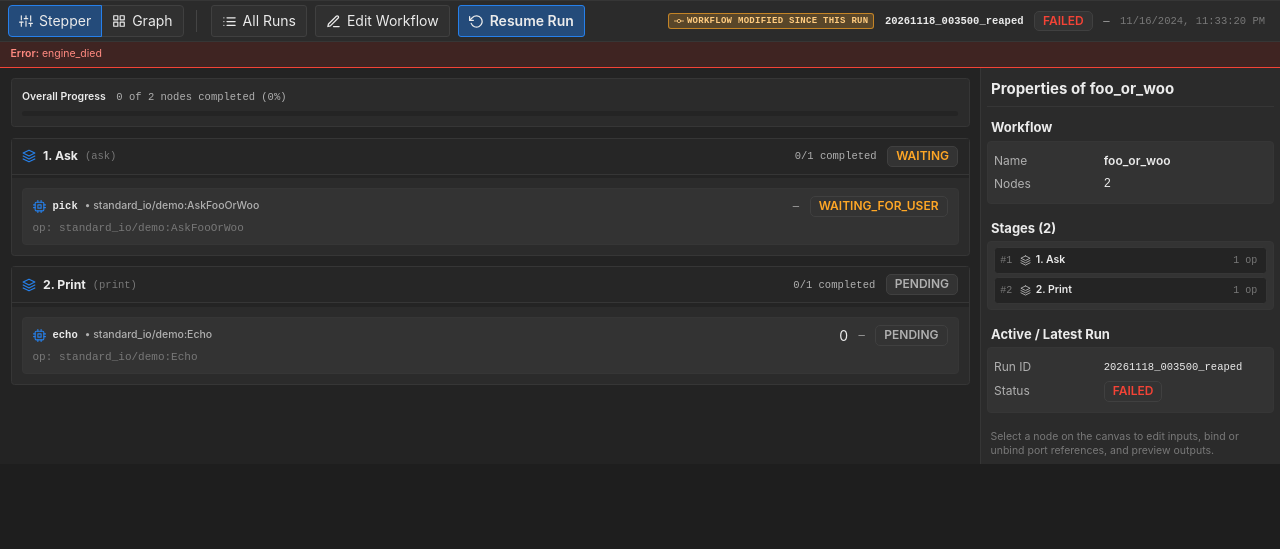
Scenario: RunDetail reload behavior (Task 6.13) › restores FAILED (engine_died) after server restart, hides dead checkpoints, and reconnects on Resume Run
Expected: the text with test id "run-status-badge" reads "FAILED", [1043, 13, 1084, 28]
Expected: the element with test id "run-error-banner" shows "engine_died", [42, 47, 102, 60]
# Clicking Resume Run claims ownership, re-fetches SQLite state, and connects SSE
Step 1. Click the button "Resume Run" → (521, 21), box [458, 5, 585, 37]
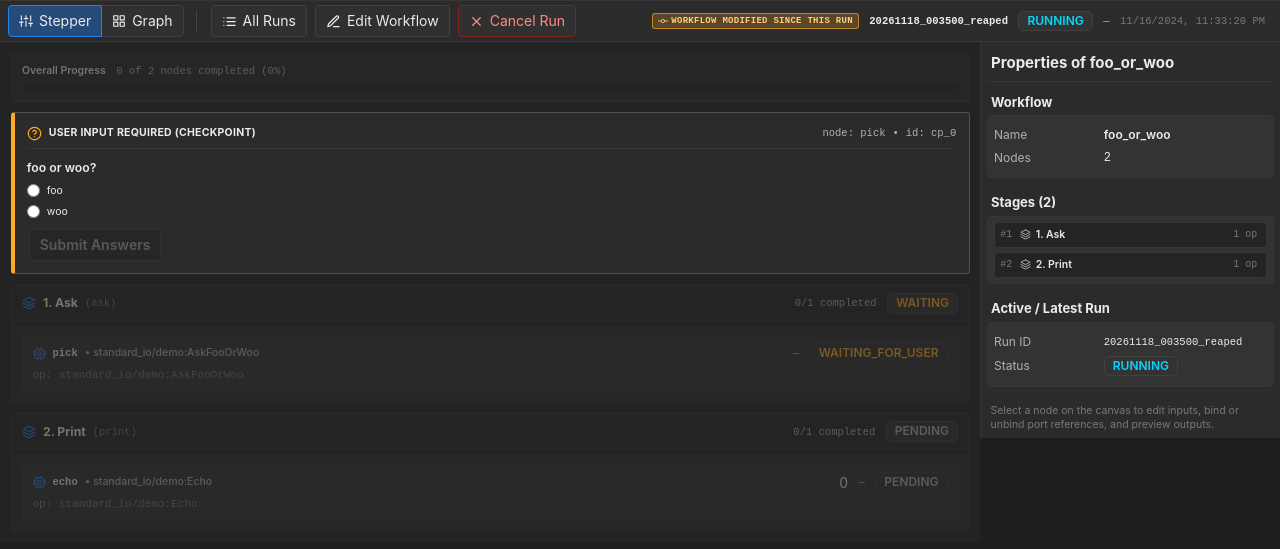
Now the text with test id "run-status-badge" reads "RUNNING", box [1027, 13, 1084, 28]
